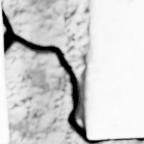brick: (84, 0, 143, 136), (0, 14, 7, 142)
crack: (0, 0, 143, 143)
